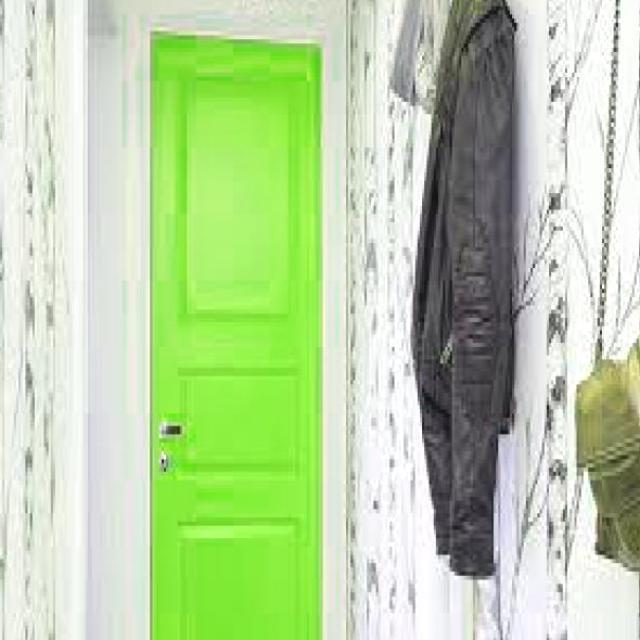door: (148, 30, 324, 639)
